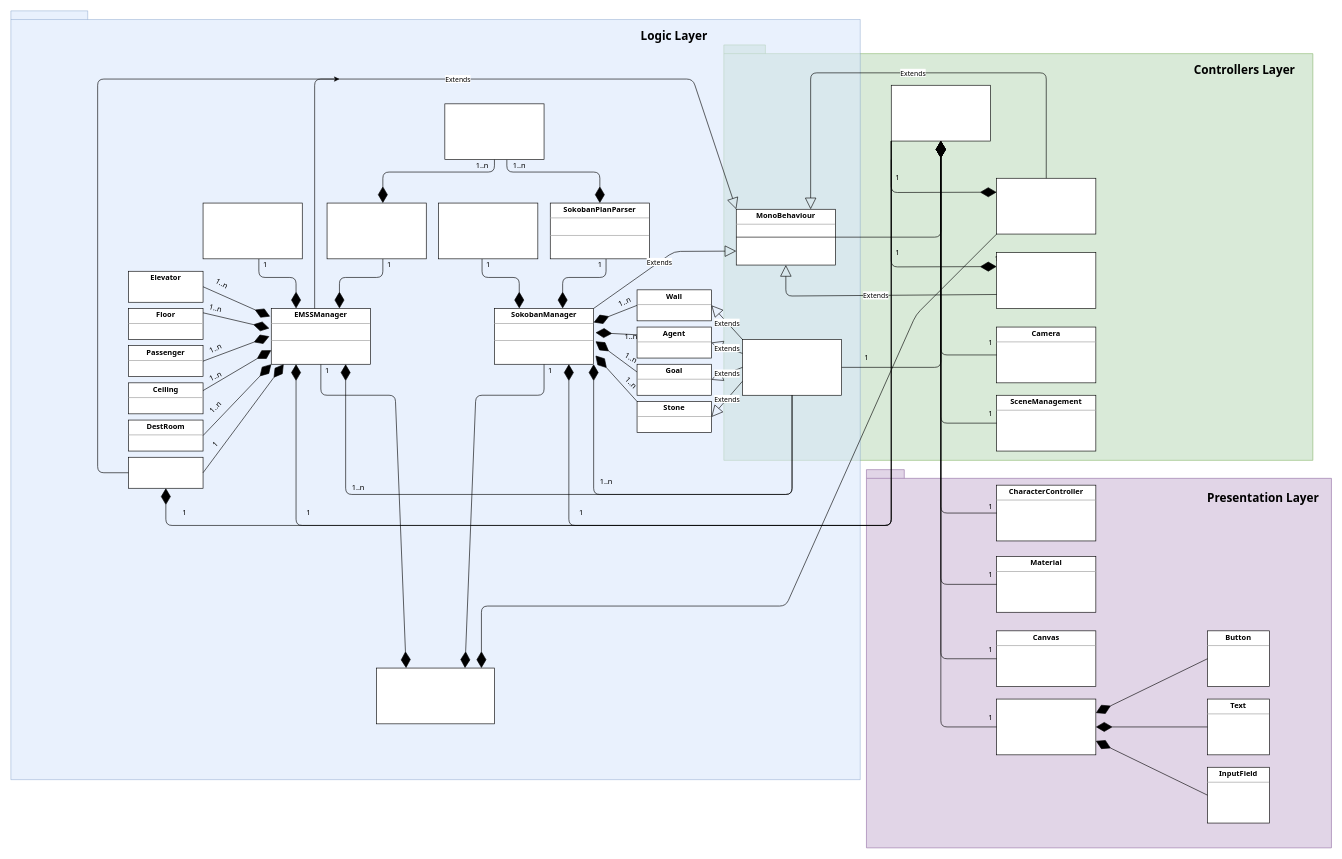
Some shapes in this 1342 by 859 pixel diagram are drawn without their labels. Here are the shapes that lost their labels. From the top down, the centre of each, then its label:
the point at 494,131: Action
the point at 940,113: UnityEngine
the point at 1046,206: FirstPersonCamera
the point at 252,230: EMSSParser
the point at 376,230: ParsePlanElevator
the point at 488,230: SokobanParser
the point at 1046,280: SceneSimManager
the point at 792,367: GameObject
the point at 165,472: View3ZoomCamera
the point at 435,695: SimulationManager
the point at 1046,726: UI
